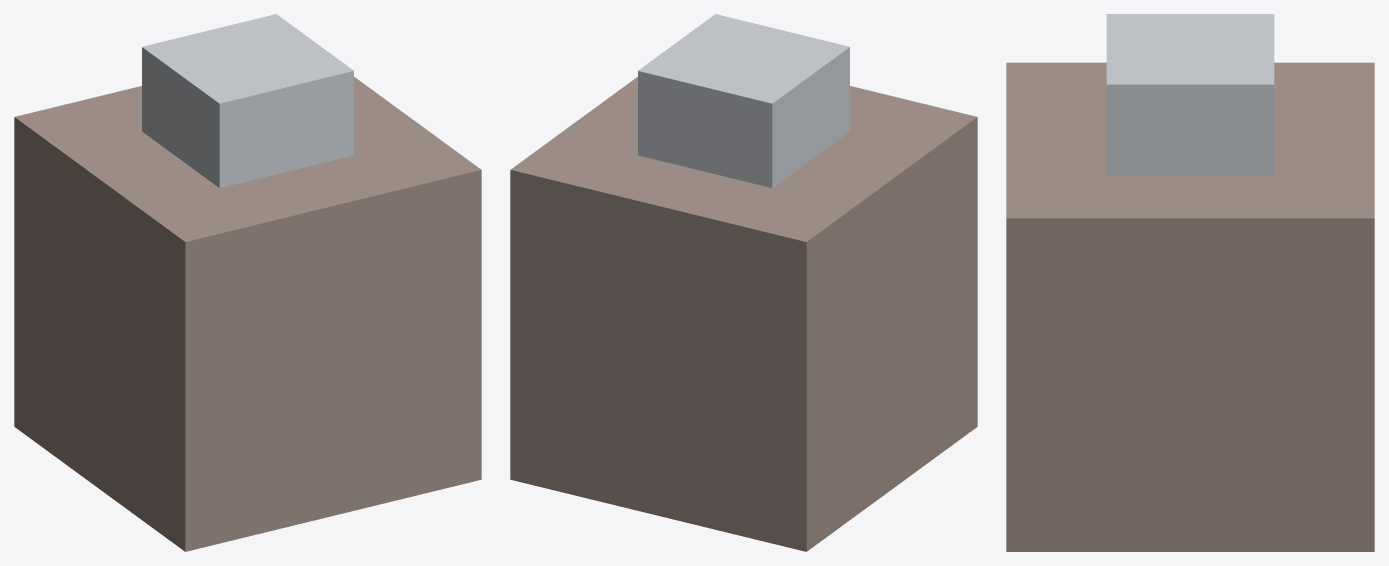
File: prop.glb
3 views of the same model, side by side, from view 1: azimuth 30°, elevation 25°; view 2: azimuth 150°, elevation 25°; view 3: azimuth 270°, elevation 25° (orthographic). The views are drawn at different scales.
Visible parts, largest first — view 1: Cloth, Metal; view 2: Cloth, Metal; view 3: Cloth, Metal.
Part boxes in pixels (x1,y1,x2,y2): Cloth: (14,76,481,551); Metal: (142,14,353,188); Cloth: (510,76,977,551); Metal: (638,14,849,188); Cloth: (1006,62,1374,551); Metal: (1106,14,1274,175).
Size of the model in its own units: 0.22 by 0.28 by 0.22.
